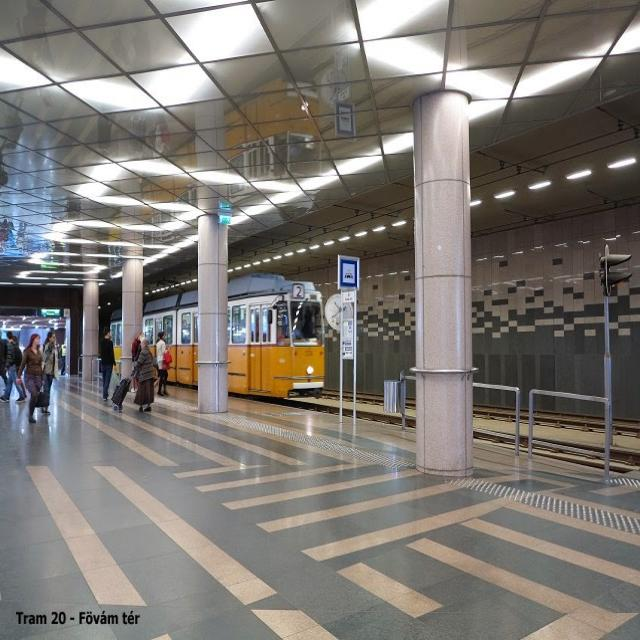body: (0, 4, 327, 273), (111, 301, 306, 344), (14, 332, 51, 425), (0, 330, 26, 403), (132, 337, 156, 414), (40, 329, 60, 417), (99, 325, 119, 404), (154, 330, 173, 397), (11, 334, 29, 401), (18, 336, 61, 364), (128, 329, 144, 394), (0, 328, 11, 403), (60, 338, 66, 376)
